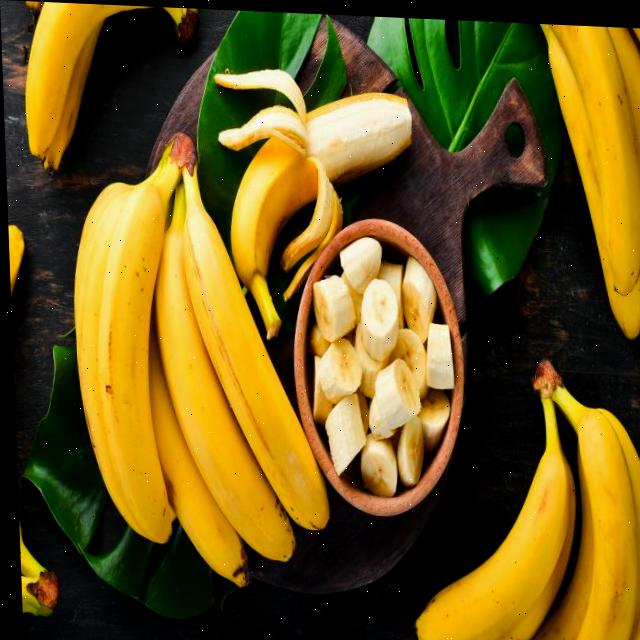banana: (76, 110, 315, 605), (411, 325, 640, 640), (197, 39, 418, 334)
